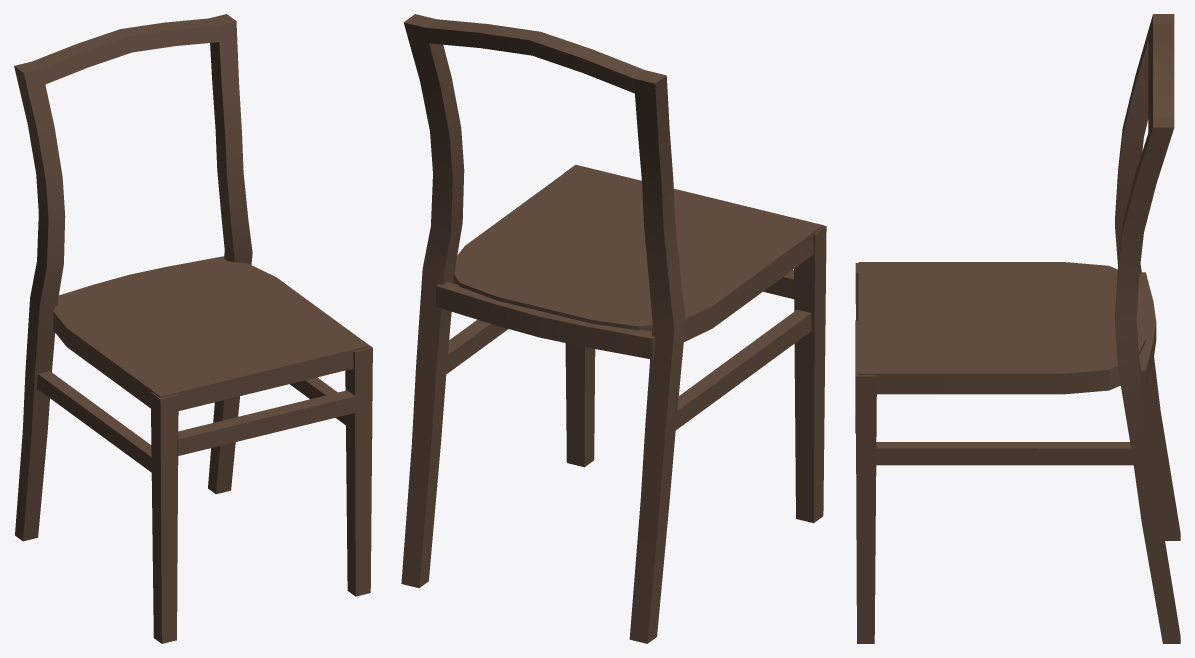
The model's file is Chair_kitchen_type3.FBX.
3 views of the same model, side by side, from view 1: azimuth 30°, elevation 25°; view 2: azimuth 150°, elevation 25°; view 3: azimuth 270°, elevation 25° (orthographic). The views are drawn at different scales.
Visible parts, largest first — view 1: Chair_kitchen_type3_01; view 2: Chair_kitchen_type3_01; view 3: Chair_kitchen_type3_01.
Part boxes in pixels (bbox=[...]): Chair_kitchen_type3_01: bbox=[14, 14, 372, 643]; Chair_kitchen_type3_01: bbox=[401, 14, 826, 643]; Chair_kitchen_type3_01: bbox=[855, 14, 1180, 643].
Size of the model in its own units: 109 by 235 by 131.
